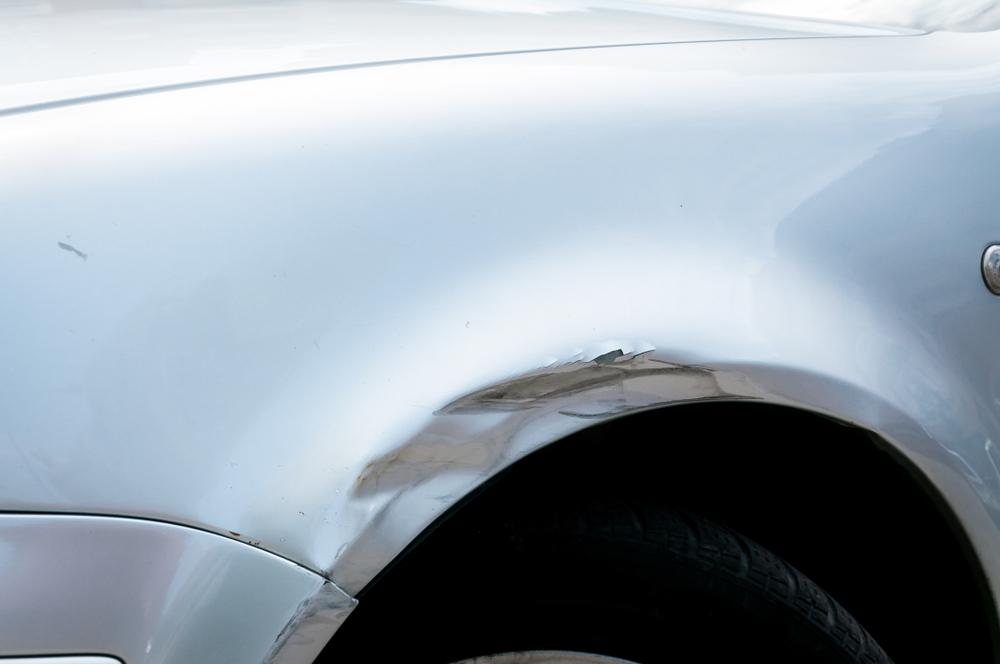dent: (317, 352, 730, 585)
scratch: (264, 585, 358, 661)
